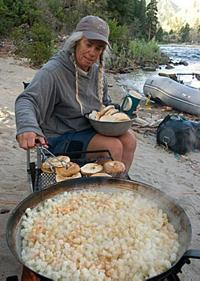person: (15, 17, 138, 176)
